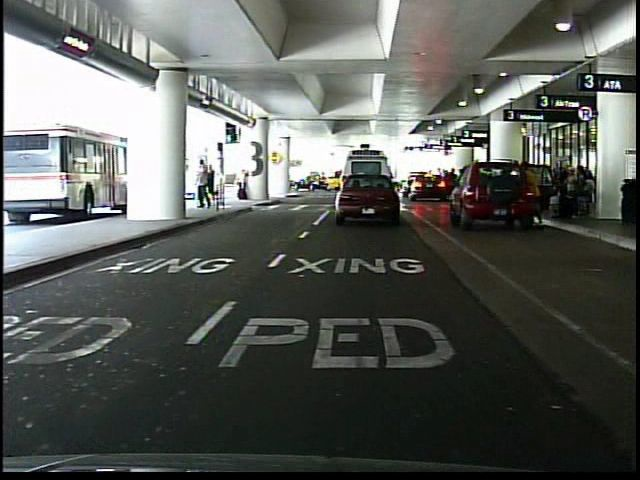person: (194, 157, 212, 215), (234, 165, 253, 203), (206, 163, 218, 212), (531, 159, 532, 223)
